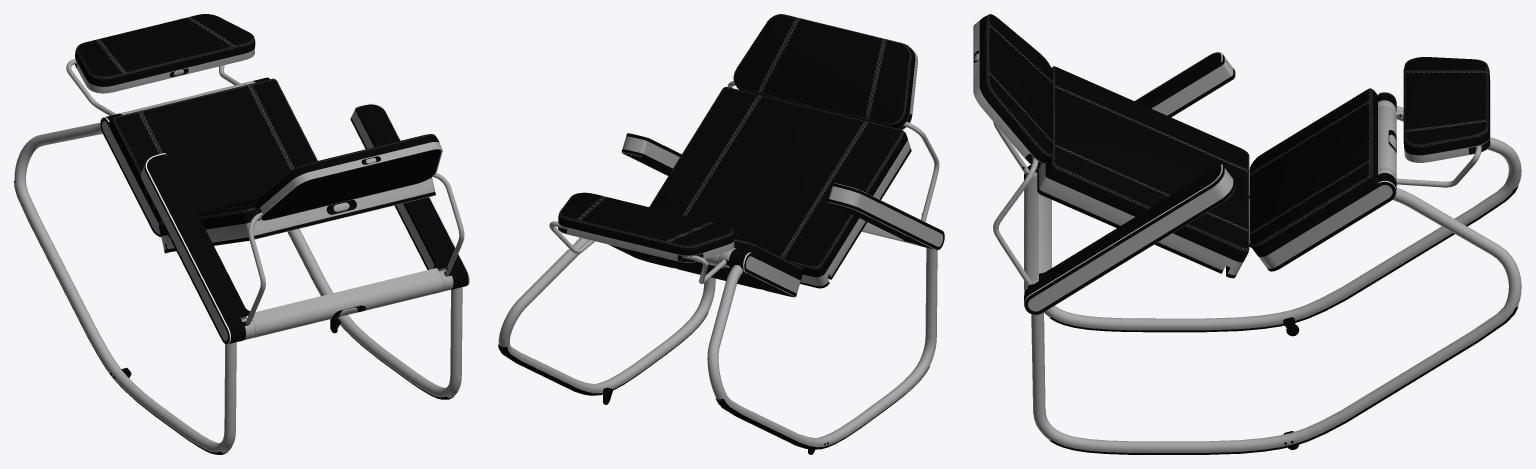
File: ZeroDV-transformed.glb
The picture shows the model from 3 angles, left to right: view 1: azimuth 30°, elevation 25°; view 2: azimuth 150°, elevation 25°; view 3: azimuth 270°, elevation 25°; orthographic projection. The views are drawn at different scales.
Visible parts, largest first — view 1: Body, LegRest, HeadRest, Desk, HeadFrame, DeskLid, LeftFrame, LegFrame; view 2: Desk, Body, HeadRest, LegRest, LeftFrame, LegFrame, HeadFrame; view 3: Body, Desk, LegRest, HeadRest, LeftFrame, HeadFrame, LegFrame, DeskLid.
Part boxes in pixels (left/top/right/bottom): Body: left=14, top=77, right=469, bottom=452; LegRest: left=75, top=14, right=255, bottom=93; HeadRest: left=254, top=134, right=442, bottom=220; Desk: left=159, top=177, right=435, bottom=253; HeadFrame: left=241, top=173, right=464, bottom=340; DeskLid: left=167, top=192, right=435, bottom=252; LeftFrame: left=14, top=180, right=454, bottom=454; LegFrame: left=66, top=59, right=255, bottom=115; Desk: left=649, top=87, right=910, bottom=288; Body: left=498, top=133, right=944, bottom=447; HeadRest: left=733, top=14, right=917, bottom=129; LegRest: left=558, top=192, right=734, bottom=262; LeftFrame: left=498, top=312, right=929, bottom=449; LegFrame: left=549, top=221, right=736, bottom=284; HeadFrame: left=727, top=81, right=939, bottom=246; Body: left=1024, top=51, right=1521, bottom=452; Desk: left=1039, top=66, right=1251, bottom=278; LegRest: left=1403, top=57, right=1490, bottom=162; HeadRest: left=973, top=14, right=1053, bottom=168; LeftFrame: left=1049, top=186, right=1518, bottom=454; HeadFrame: left=993, top=122, right=1038, bottom=292; LegFrame: left=1378, top=100, right=1481, bottom=187; DeskLid: left=1037, top=168, right=1223, bottom=273.
Size of the model in its own units: 0.791 by 0.9733 by 1.4.
Materials: 5 (1 with a texture image).
